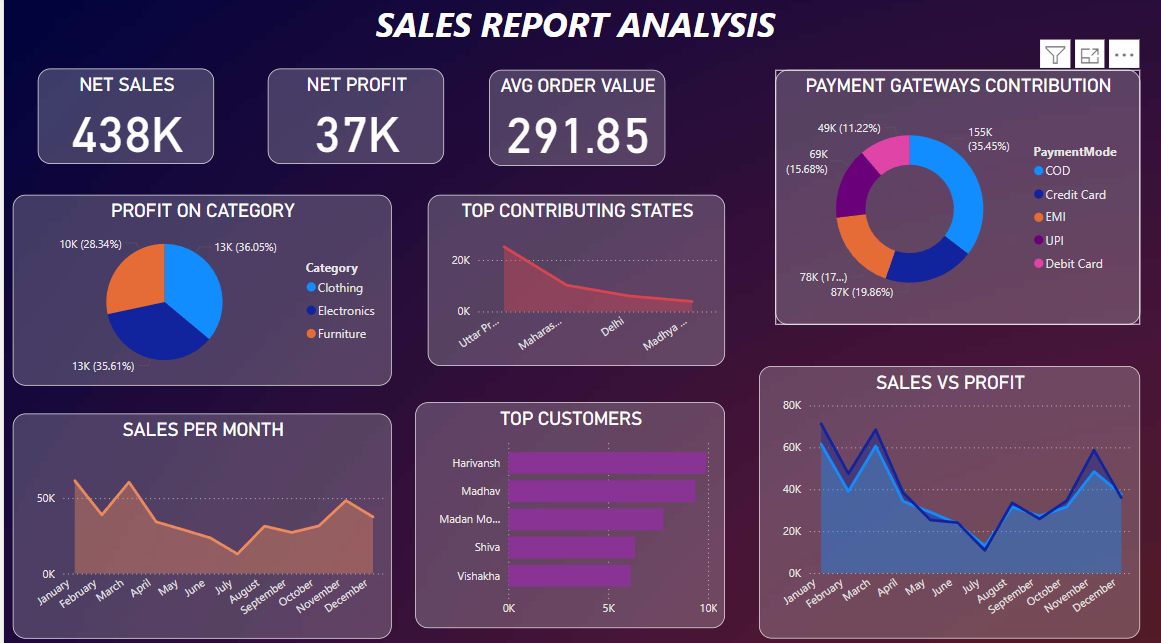

The page's visual inventory and layout, read from the dashboard file:
{"tool":"powerbi","page":{"name":"Page 1","canvas":[1280,720],"ordinal":0},"visuals":[{"type":"textbox","box":[347.2,0,559.9,65.9],"z":0},{"type":"pieChart","title":"PROFIT ON CATEGORY","fields":{"Y":["Details.Profit"],"Category":["Details.Category"]},"box":[9.6,218.2,415.8,209.9],"z":1000},{"type":"stackedAreaChart","title":"SALES PER MONTH","fields":{"Category":["Orders.Order Date.Variation.Date Hierarchy.Month"],"Y":["Details.Amount"]},"box":[10,458.8,416.2,247.5],"z":2000},{"type":"stackedAreaChart","title":"SALES VS PROFIT","fields":{"Category":["Orders.Order Date.Variation.Date Hierarchy.Month"],"Y":["Details.Amount","Details.Profit"]},"box":[828.8,406.2,418.5,299.1],"z":3000},{"type":"card","title":"NET SALES","fields":{"Values":["Details.Amount"]},"box":[37.5,80,193.8,105],"z":4000},{"type":"card","title":"NET  PROFIT","fields":{"Values":["Details.Profit"]},"box":[290,80,193.8,105],"z":5000},{"type":"donutChart","title":"PAYMENT GATEWAYS CONTRIBUTION","fields":{"Category":["Details.PaymentMode"],"Y":["Details.Amount"]},"box":[846.7,81,400.7,279.9],"z":6000},{"type":"clusteredBarChart","title":"TOP CUSTOMERS","fields":{"Category":["Orders.CustomerName"],"Y":["Details.Amount"]},"box":[451.5,446,340.3,248.4],"z":7000},{"type":"card","title":"AVG ORDER VALUE","fields":{"Values":["Details.Amount"]},"box":[532.4,81,193.5,105.7],"z":8000},{"type":"areaChart","title":"TOP CONTRIBUTING STATES","fields":{"Category":["Orders.State"],"Y":["Details.Amount"]},"box":[465.2,218.2,326.6,188],"z":9000}]}

Visuals, with their boxes in screenshot pixels (x1, y1, x2, y2), scaled from the page's 1280x720 canvas onto the 1161x643 screenshot:
textbox: {"x1": 315, "y1": 0, "x2": 823, "y2": 59}
"PROFIT ON CATEGORY" pieChart: {"x1": 9, "y1": 195, "x2": 386, "y2": 382}
"SALES PER MONTH" stackedAreaChart: {"x1": 9, "y1": 410, "x2": 387, "y2": 631}
"SALES VS PROFIT" stackedAreaChart: {"x1": 752, "y1": 363, "x2": 1131, "y2": 630}
"NET SALES" card: {"x1": 34, "y1": 71, "x2": 210, "y2": 165}
"NET  PROFIT" card: {"x1": 263, "y1": 71, "x2": 439, "y2": 165}
"PAYMENT GATEWAYS CONTRIBUTION" donutChart: {"x1": 768, "y1": 72, "x2": 1131, "y2": 322}
"TOP CUSTOMERS" clusteredBarChart: {"x1": 410, "y1": 398, "x2": 718, "y2": 620}
"AVG ORDER VALUE" card: {"x1": 483, "y1": 72, "x2": 658, "y2": 167}
"TOP CONTRIBUTING STATES" areaChart: {"x1": 422, "y1": 195, "x2": 718, "y2": 363}
